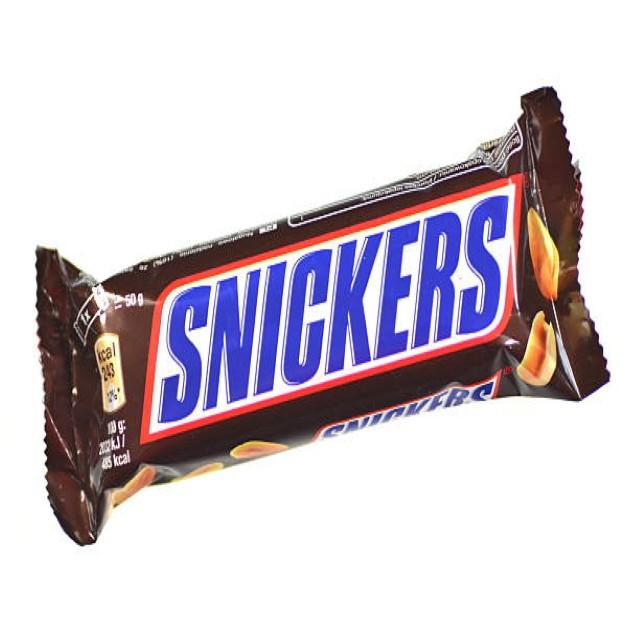snickers_chocolate: (43, 85, 608, 570)
